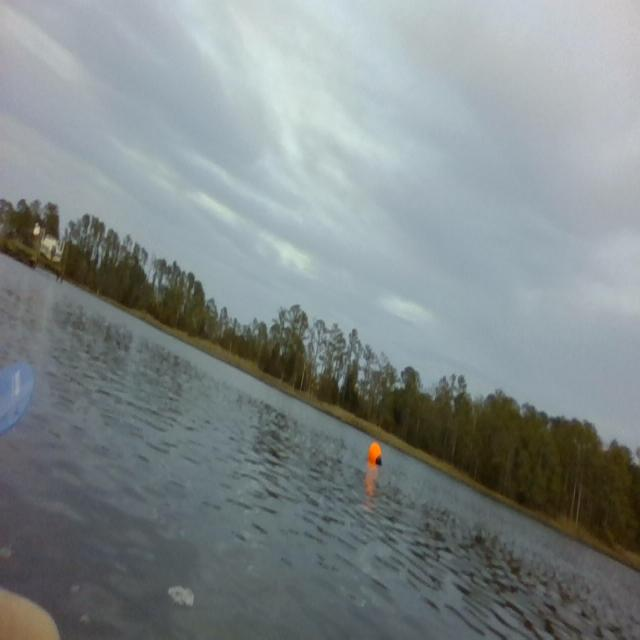Buoy: (369, 439, 383, 468)
